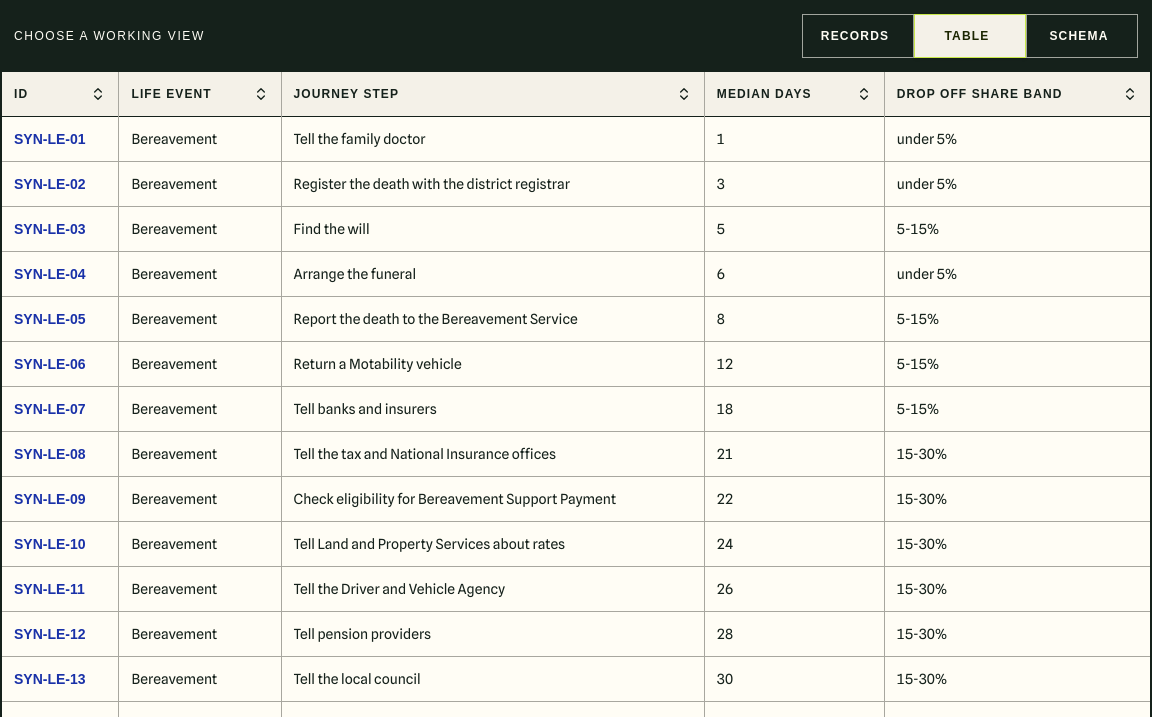
DatasetExplorer › shows exact field types, populated counts, and sample values
Click the tab "Schema" at (1082, 36), box [1026,14,1138,58]
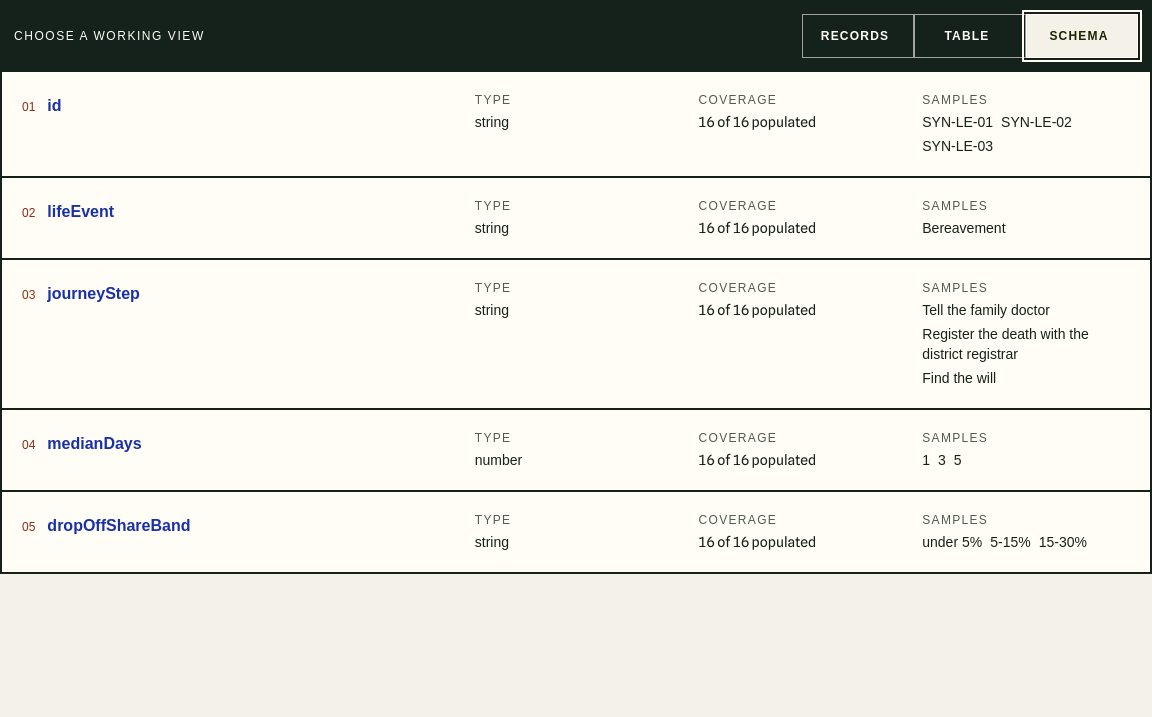
Check: the text "1" is shown, box [922,450,930,470]
Check: the text "number" is shown, box [475,452,522,468]
Check: the text "16 of 16 populated" in the row of "number" is shown, box [698,452,816,468]
